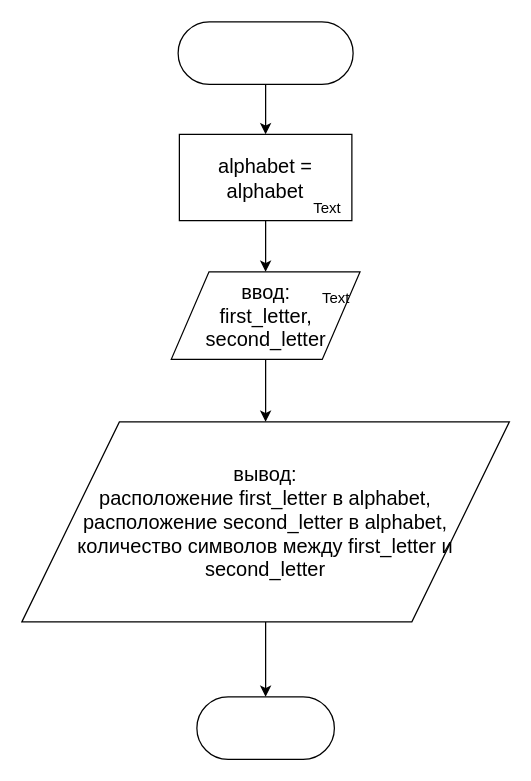
This 531x781 diagram has some shape labels left out. The shapes that lost their labels are listed below. From the top down, each one's centre as x and y in pixels, then its label:
the point at 265,52: начало
the point at 265,727: Конец
